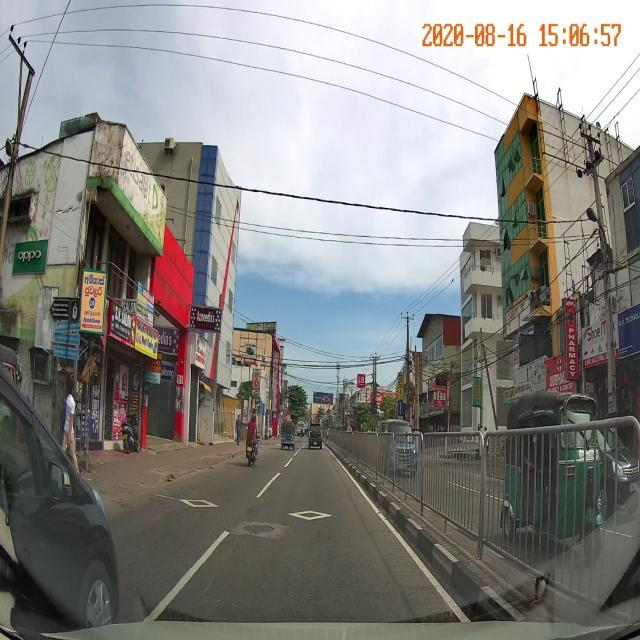diamond: (237, 504, 392, 525)
